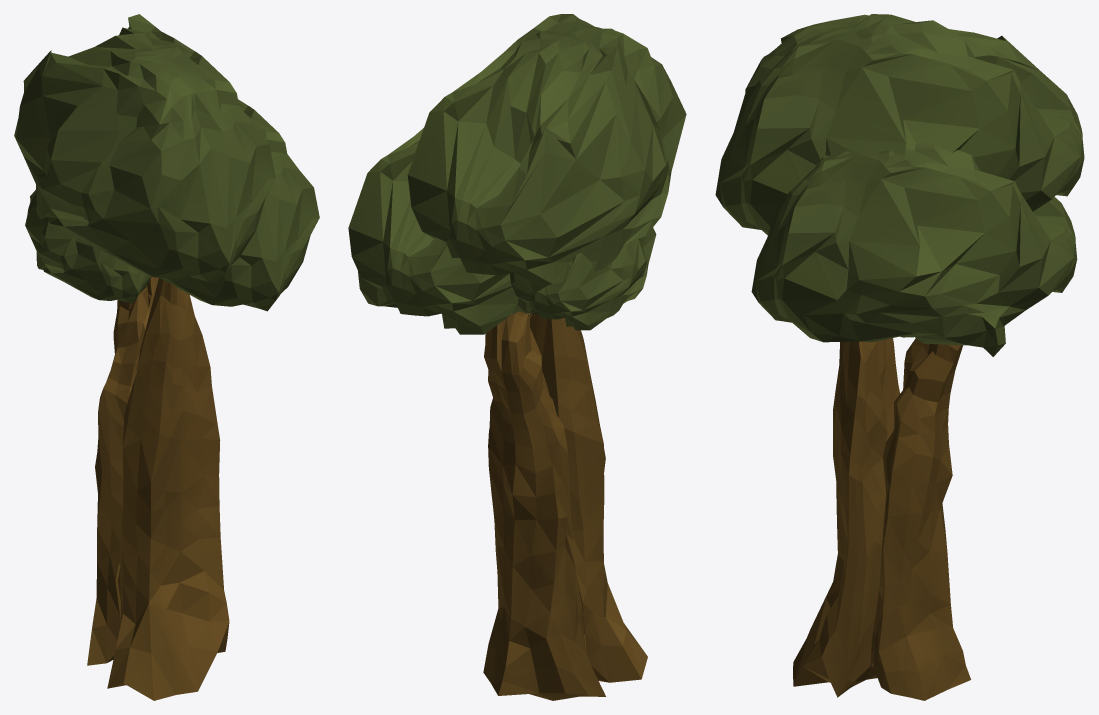
File: ARVORE_4.fbx
3 renders of one model, left to right at view 1: azimuth 30°, elevation 25°; view 2: azimuth 150°, elevation 25°; view 3: azimuth 270°, elevation 25°, orthographic. The views are drawn at different scales.
Visible parts, largest first — view 1: Cube.001, Cube, Cube.002, Cube.003; view 2: Cube.001, Cube, Cube.002, Cube.003; view 3: Cube.002, Cube.001, Cube.
Boxes of the visible parts, x1=… form: Cube.001: x1=14, y1=14, x2=275, y2=284; Cube: x1=87, y1=276, x2=229, y2=700; Cube.002: x1=159, y1=99, x2=319, y2=311; Cube.003: x1=25, y1=190, x2=151, y2=303; Cube.001: x1=407, y1=14, x2=686, y2=294; Cube: x1=483, y1=311, x2=647, y2=700; Cube.002: x1=348, y1=128, x2=519, y2=334; Cube.003: x1=509, y1=227, x2=656, y2=330; Cube.002: x1=751, y1=143, x2=1077, y2=356; Cube.001: x1=715, y1=14, x2=1084, y2=235; Cube: x1=793, y1=338, x2=970, y2=700.
Size of the model in its own units: 551 by 1331 by 669.
